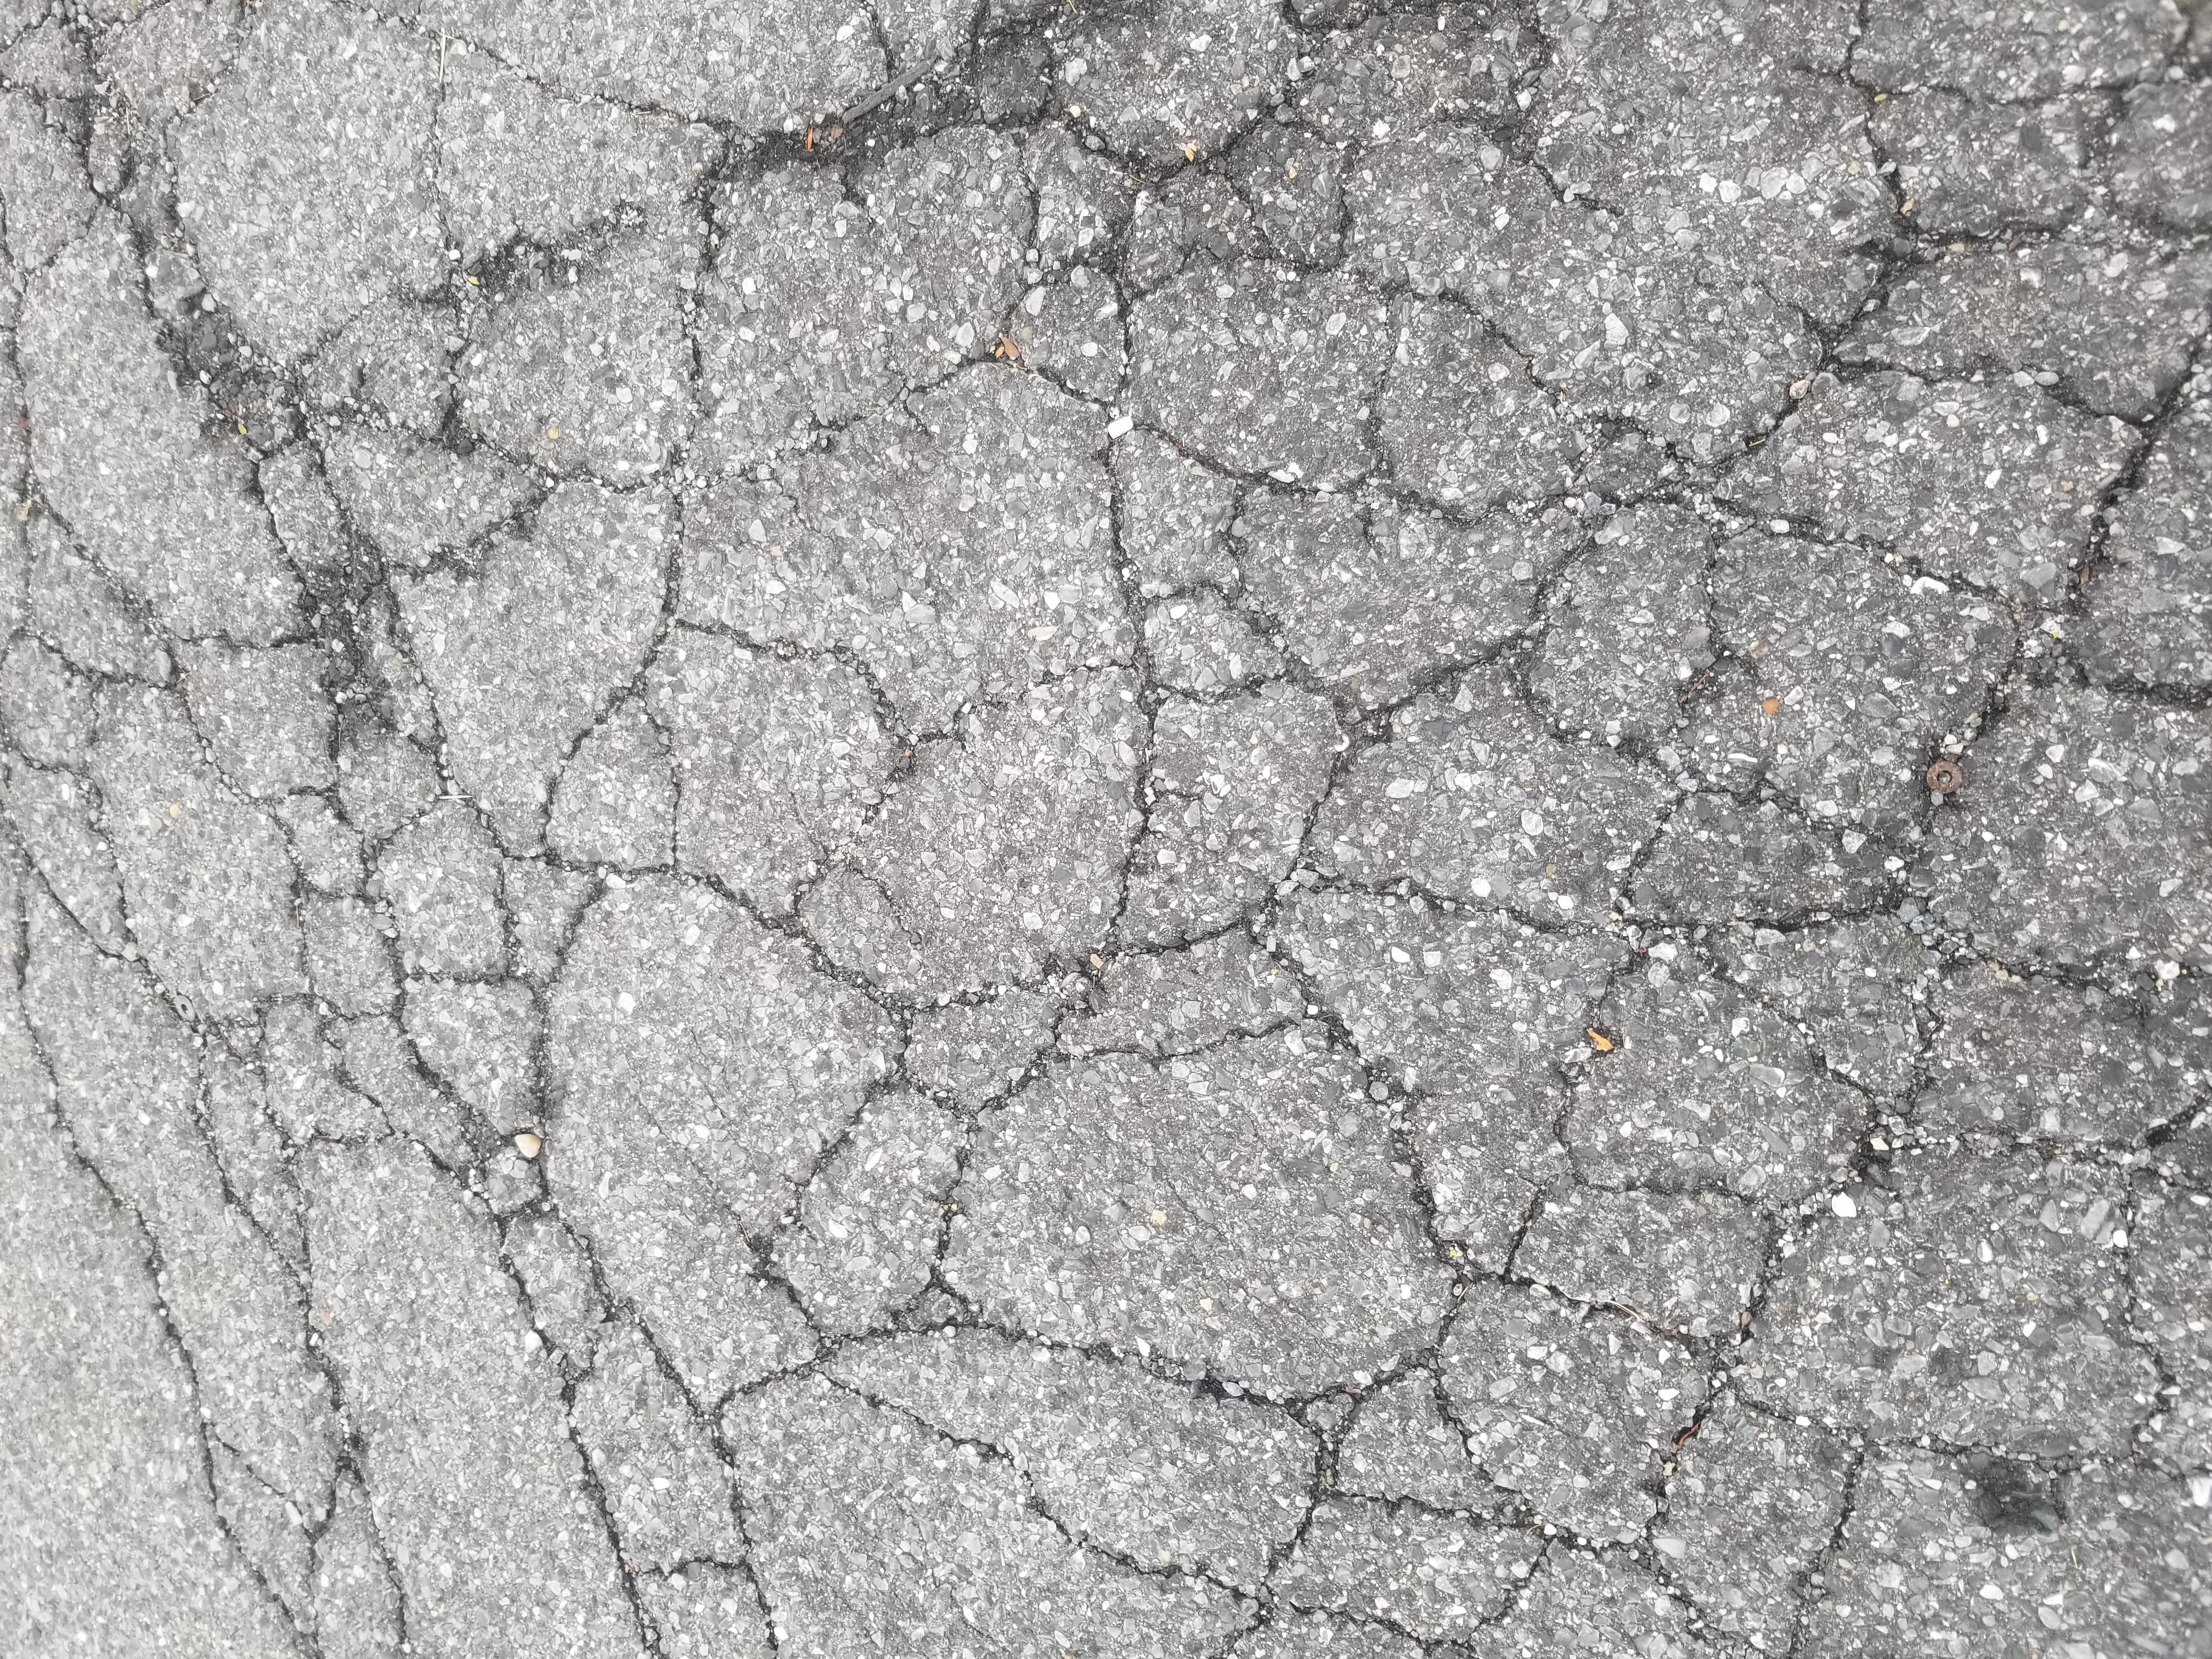alligator-crack: (14, 9, 2196, 1652)
